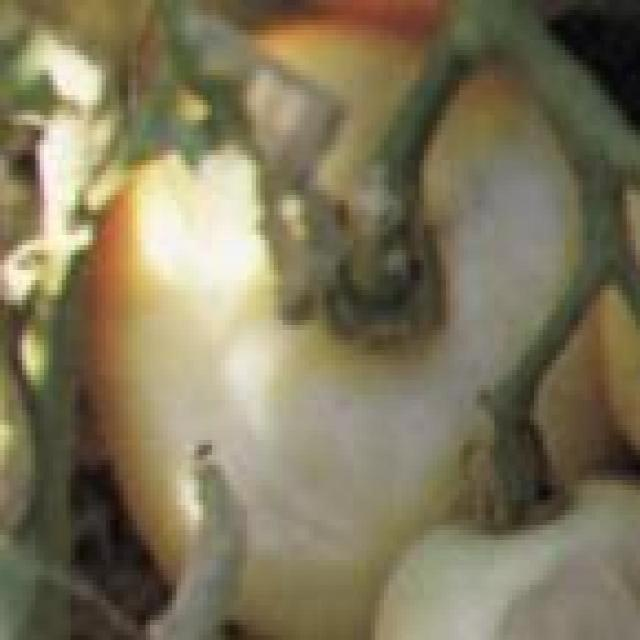Sunscald Fruit: (106, 77, 371, 383)
